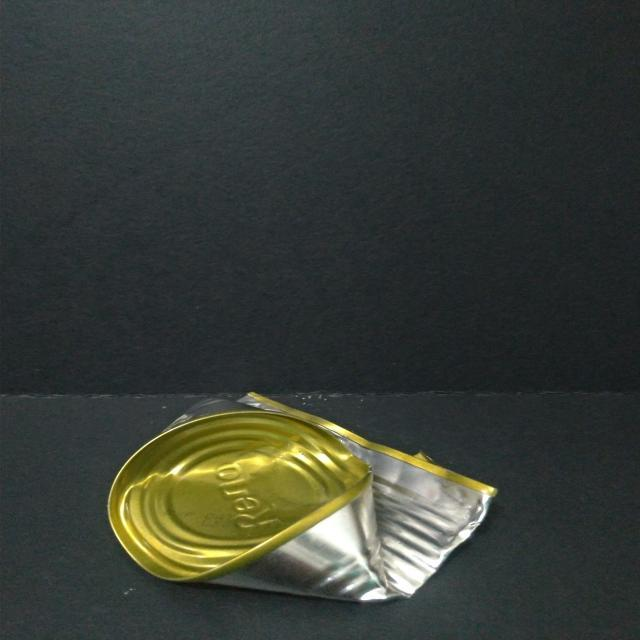metal-can: (105, 388, 498, 612)
